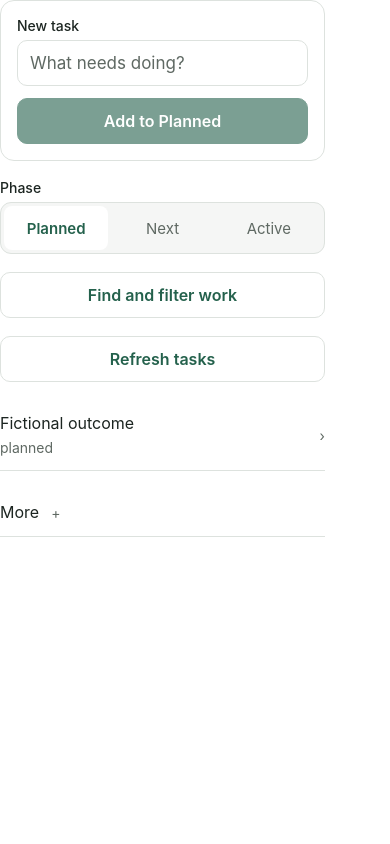
Test: opens ordinary tasks for reading and action without starting agent setup
Click the button "Fictional outcome planned ›" at x=67, y=423, box [0,400,325,471]
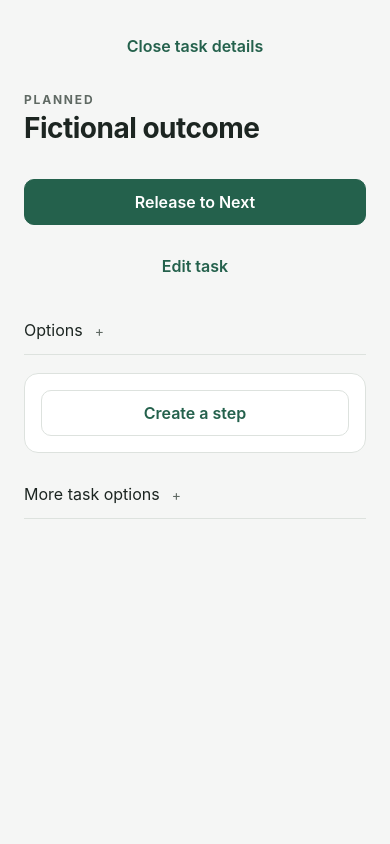
Expected: the field labelled "Title" is not shown
Result: the button "Release to Next" is enabled at [24,179,366,225]
Result: the button "Close task details" is enabled at [20,24,370,68]
Click the button "Edit task" at x=195, y=266, box [24,243,366,289]
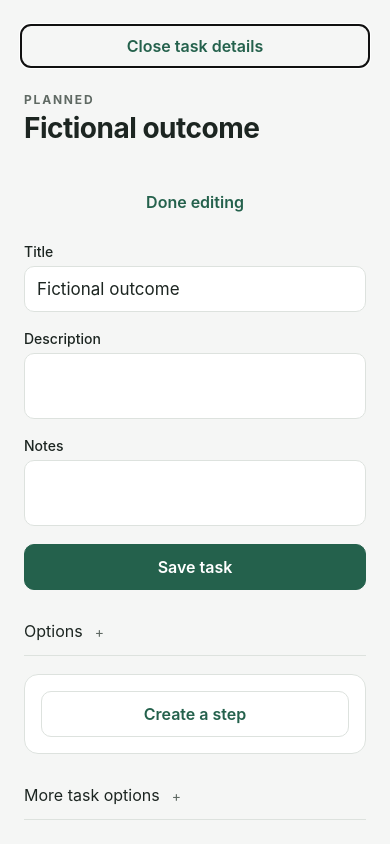
Result: the field named "Title" holds "Fictional outcome" at [24,266,366,312]
